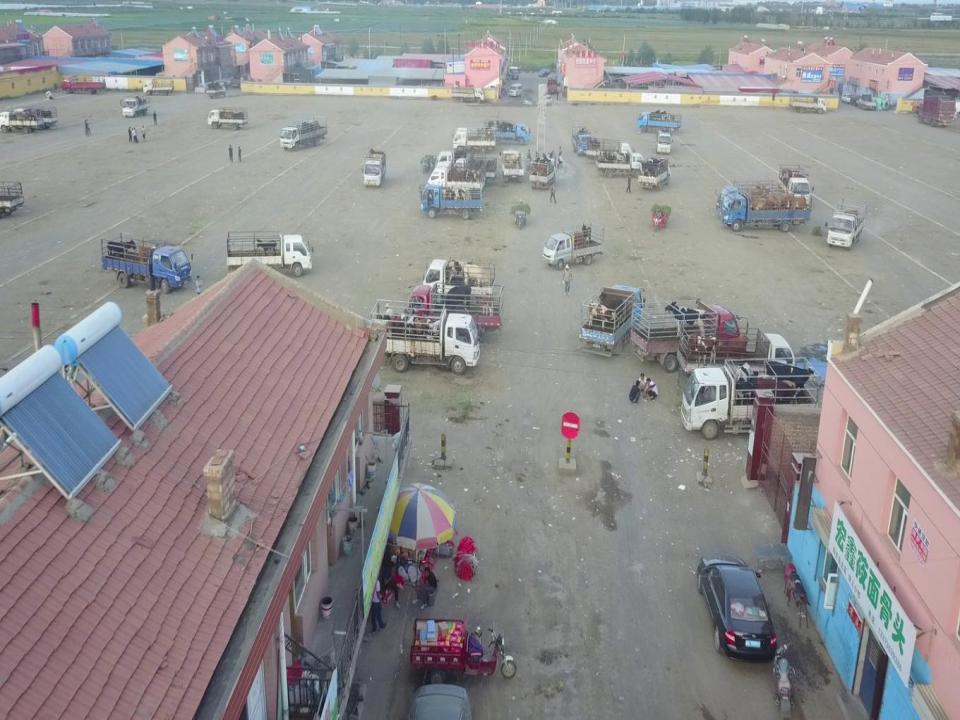bus: (510, 84, 523, 97)
car: (698, 554, 774, 662), (849, 92, 861, 108), (841, 93, 852, 105), (540, 67, 550, 77), (512, 69, 520, 80)
truck: (677, 370, 806, 438), (633, 298, 747, 367), (383, 312, 481, 372), (98, 234, 190, 293), (691, 331, 796, 381), (408, 286, 506, 336), (578, 284, 645, 353), (714, 185, 811, 232), (424, 256, 497, 306), (224, 236, 312, 276), (419, 182, 482, 219), (542, 230, 606, 266), (823, 196, 865, 249), (437, 150, 498, 178), (428, 166, 485, 195), (280, 122, 330, 149), (599, 151, 645, 180), (785, 163, 813, 208), (588, 136, 632, 164), (456, 125, 496, 153), (489, 119, 530, 146), (640, 156, 672, 188), (0, 113, 46, 135), (638, 110, 682, 133), (916, 102, 954, 128), (208, 107, 248, 131), (14, 105, 58, 126), (533, 152, 557, 190), (361, 148, 385, 185), (788, 92, 826, 114), (63, 76, 105, 95), (500, 148, 522, 182), (121, 94, 151, 116), (911, 98, 941, 118), (572, 129, 593, 154), (142, 80, 174, 96), (655, 126, 671, 154), (857, 94, 877, 111), (207, 83, 226, 99), (546, 76, 557, 94)
